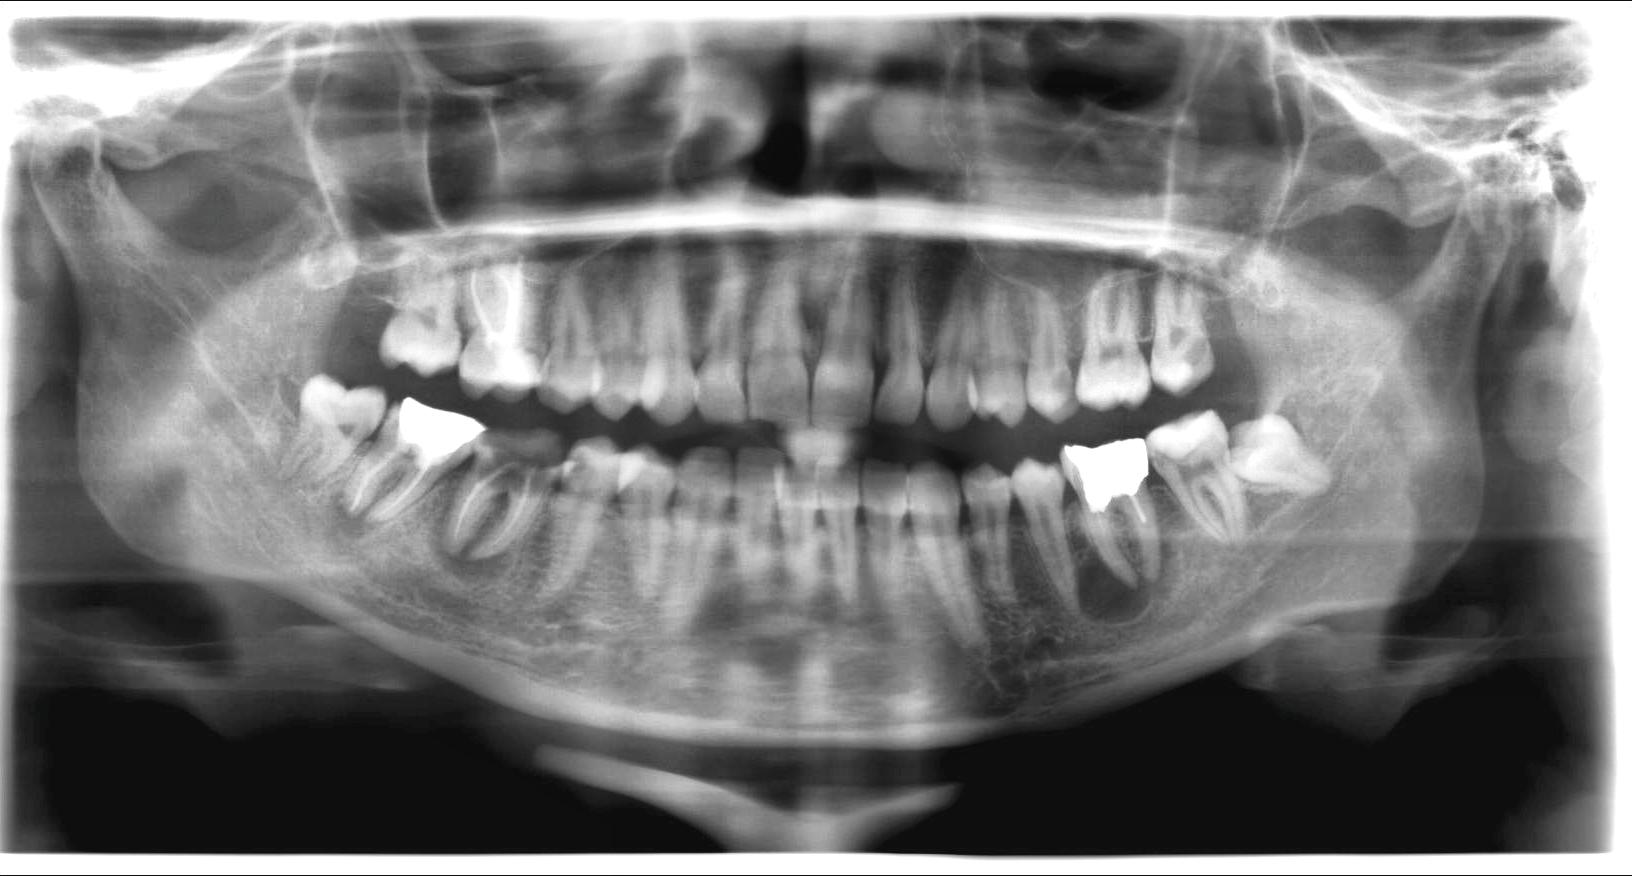radikuler: (1074, 531, 1178, 627), (434, 505, 519, 591)
